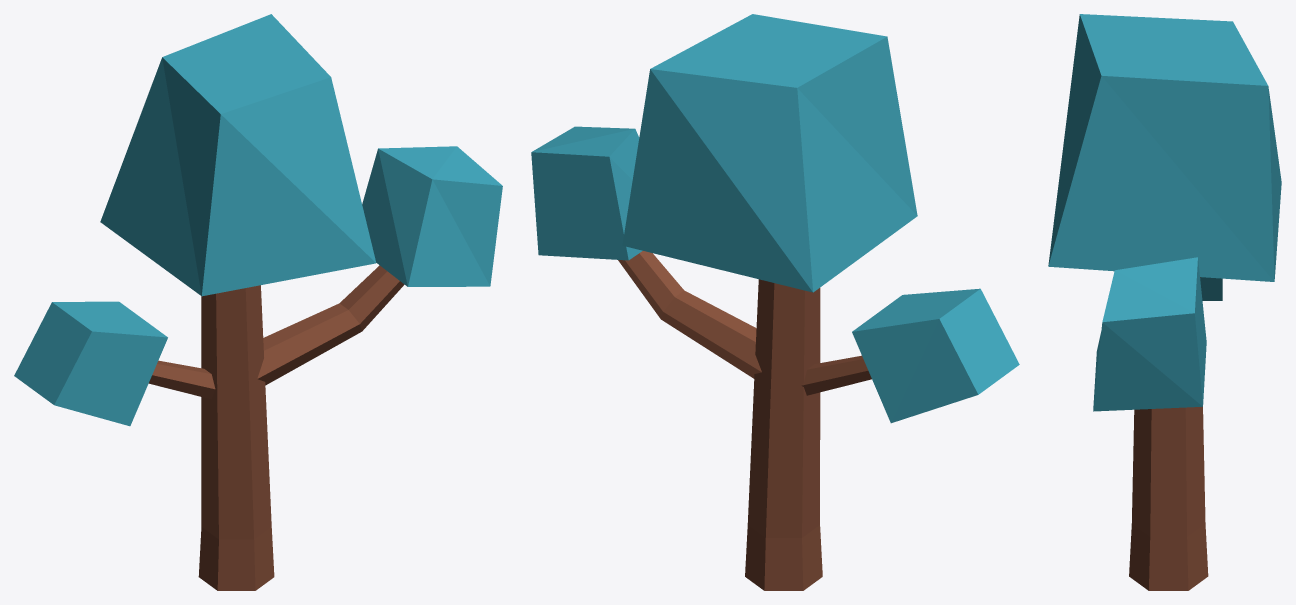
File: Tree_44_summer_blue_mat.fbx
3 renders of one model, left to right at view 1: azimuth 30°, elevation 25°; view 2: azimuth 150°, elevation 25°; view 3: azimuth 270°, elevation 25°, orthographic. The views are drawn at different scales.
Visible parts, largest first — view 1: Tree_44_summer_blue_mat; view 2: Tree_44_summer_blue_mat; view 3: Tree_44_summer_blue_mat.
Boxes of the visible parts, bbox=[...] form: Tree_44_summer_blue_mat: bbox=[14, 14, 502, 590]; Tree_44_summer_blue_mat: bbox=[531, 14, 1019, 590]; Tree_44_summer_blue_mat: bbox=[1048, 14, 1281, 590].
Size of the model in its own units: 162 by 179 by 70.99.
